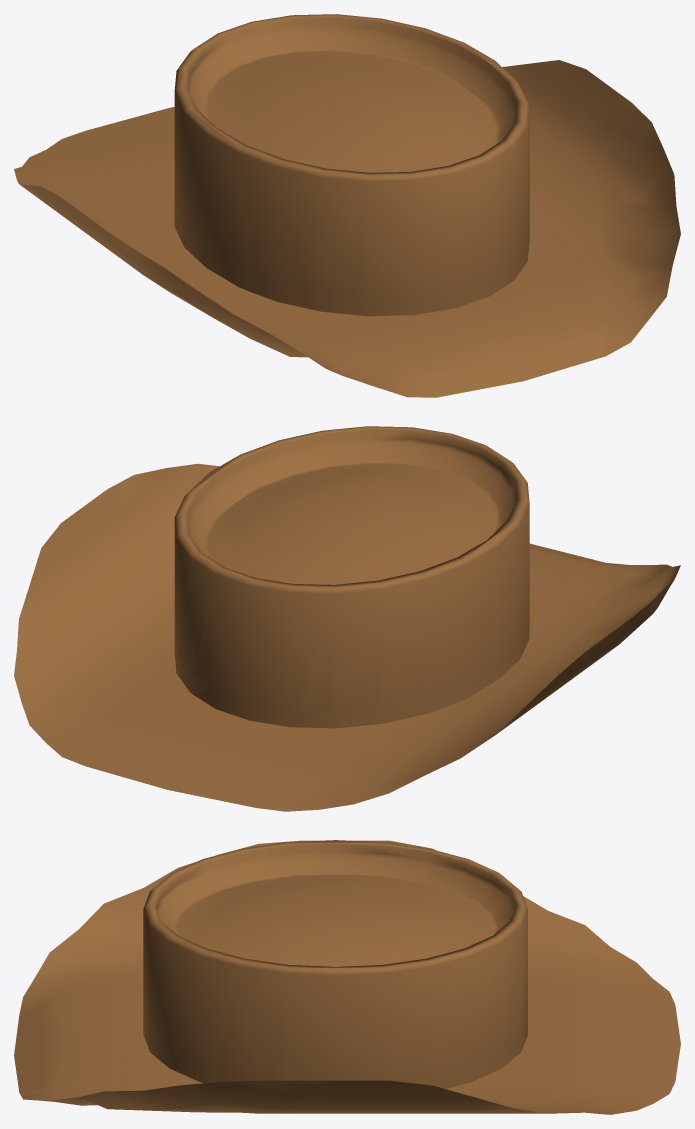
The picture shows the model from 3 angles, top to bottom: view 1: azimuth 30°, elevation 25°; view 2: azimuth 150°, elevation 25°; view 3: azimuth 270°, elevation 25°; orthographic projection. The views are drawn at different scales.
Visible parts, largest first — view 1: group_0 (×3), group_1; view 2: group_0 (×3), group_1; view 3: group_0 (×3), group_1.
Boxes of the visible parts, <box> form: group_0 (×3): <box>174,14,529,316</box>; group_1: <box>14,60,680,397</box>; group_0 (×3): <box>174,426,529,728</box>; group_1: <box>14,463,680,811</box>; group_0 (×3): <box>143,840,527,1088</box>; group_1: <box>14,840,680,1114</box>.
Bounding box in the file's own units: 14.37 × 16.87 × 4.19.
